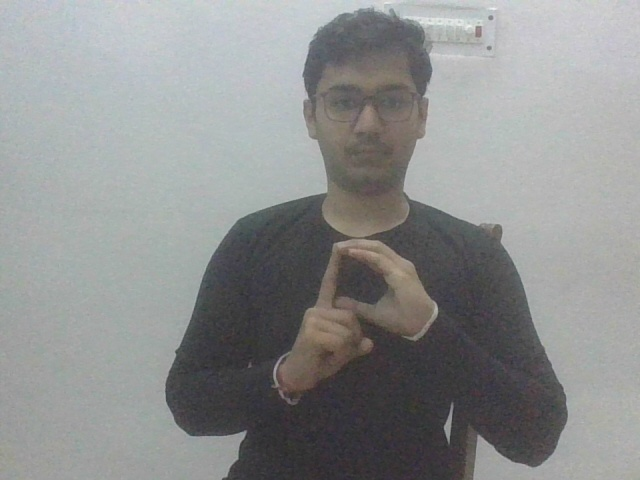D: (273, 236, 436, 404)
